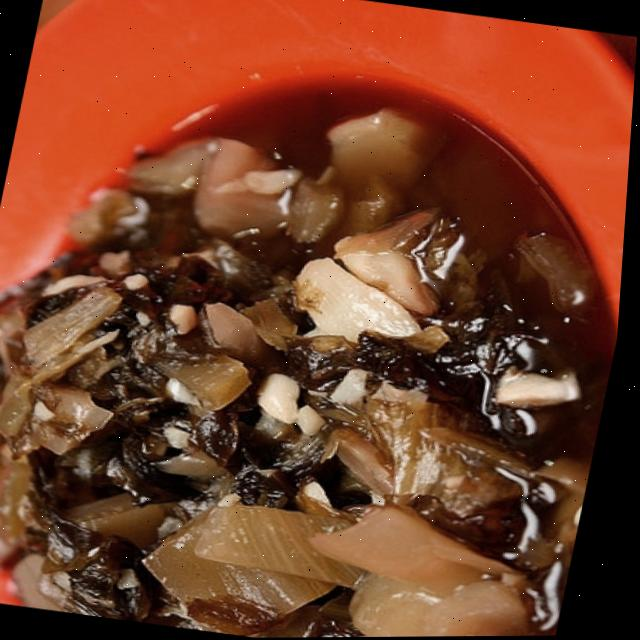汤锅炖物: (0, 7, 639, 640)
